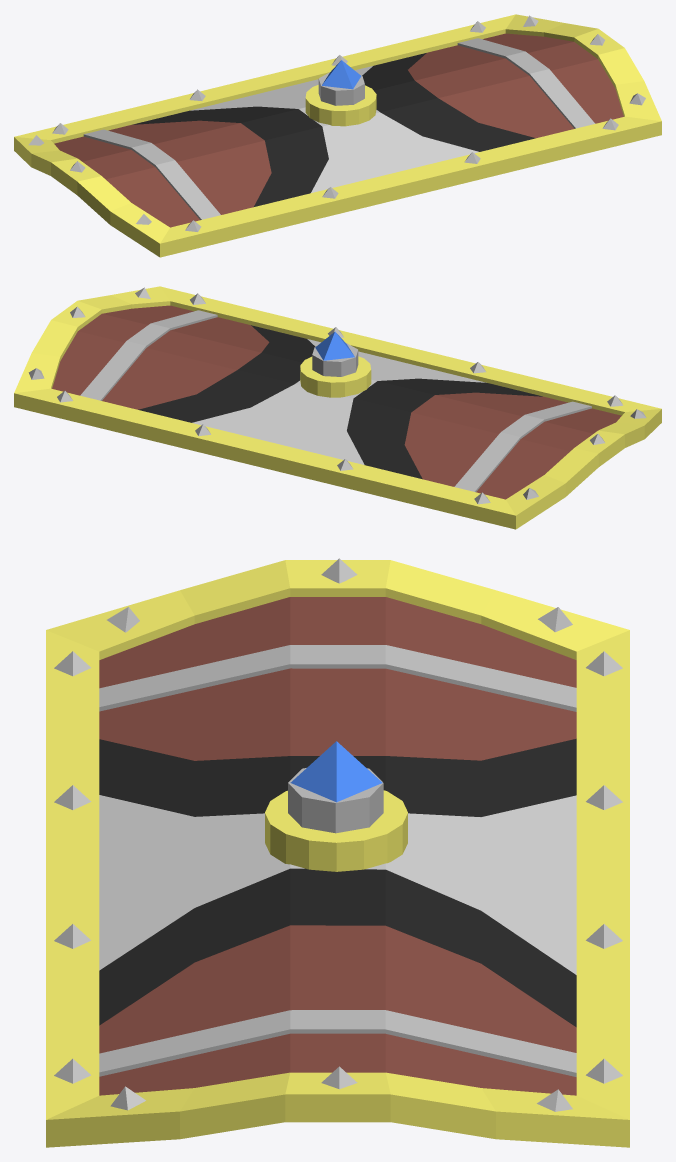
Rendered from Shield_2_e_r.fbx.
3 renders of one model, top to bottom at view 1: azimuth 30°, elevation 25°; view 2: azimuth 150°, elevation 25°; view 3: azimuth 270°, elevation 25°, orthographic. The views are drawn at different scales.
Visible parts, largest first — view 1: Plane.112, Plane.099, Plane.117, Plane.118, Plane.115, Plane.114, Circle.063, Cone.178, Circle.062, Cone.177; view 2: Plane.112, Plane.099, Plane.117, Plane.118, Plane.114, Plane.115, Circle.063, Cone.178, Circle.062, Cone.177; view 3: Plane.099, Plane.112, Plane.117, Plane.118, Plane.115, Plane.114, Circle.063, Cone.178, Circle.062, Cone.177.
Part boxes in pixels (x1,y1,x2,y2): Plane.112: (14, 14, 661, 257); Plane.099: (54, 33, 623, 227); Plane.117: (132, 53, 535, 206); Plane.118: (190, 66, 478, 192); Plane.115: (457, 38, 595, 128); Plane.114: (83, 129, 220, 219); Circle.063: (305, 85, 376, 126); Cone.178: (28, 15, 645, 231); Circle.062: (318, 72, 364, 105); Cone.177: (322, 60, 361, 89); Plane.112: (14, 286, 661, 529); Plane.099: (52, 305, 621, 499); Plane.117: (138, 325, 542, 479); Plane.118: (192, 339, 486, 464); Plane.114: (454, 401, 591, 492); Plane.115: (80, 310, 217, 400); Circle.063: (300, 356, 371, 397); Cone.178: (28, 287, 646, 504); Circle.062: (312, 343, 358, 376); Cone.177: (315, 331, 354, 360); Plane.099: (99, 597, 576, 1095); Plane.112: (46, 560, 629, 1147); Plane.117: (99, 738, 576, 1027); Plane.118: (99, 795, 576, 974); Plane.115: (99, 1010, 576, 1076); Plane.114: (99, 645, 576, 711); Circle.063: (265, 790, 407, 871); Cone.178: (54, 558, 622, 1111); Circle.062: (288, 768, 383, 833); Cone.177: (290, 741, 382, 802).
Bounding box in the file's own units: 132 × 24.84 × 61.17.
